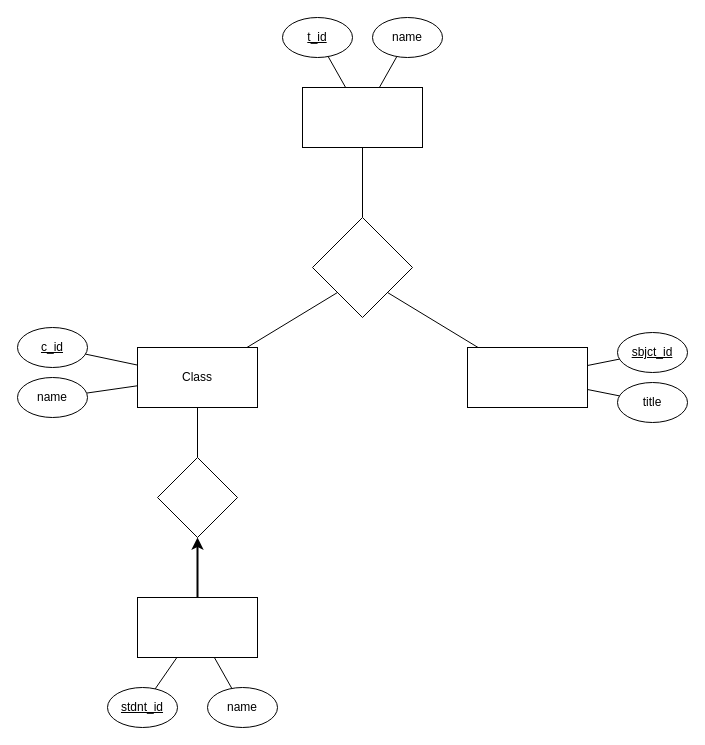
Some shapes in this 705 by 745 pixel diagram are drawn without their labels. Each missing label, with the box of its shape:
has: (156, 456, 238, 538)
Student: (136, 596, 258, 658)
Subject: (466, 346, 588, 408)
Teacher: (302, 86, 422, 148)
teaches class subject: (312, 216, 412, 318)
